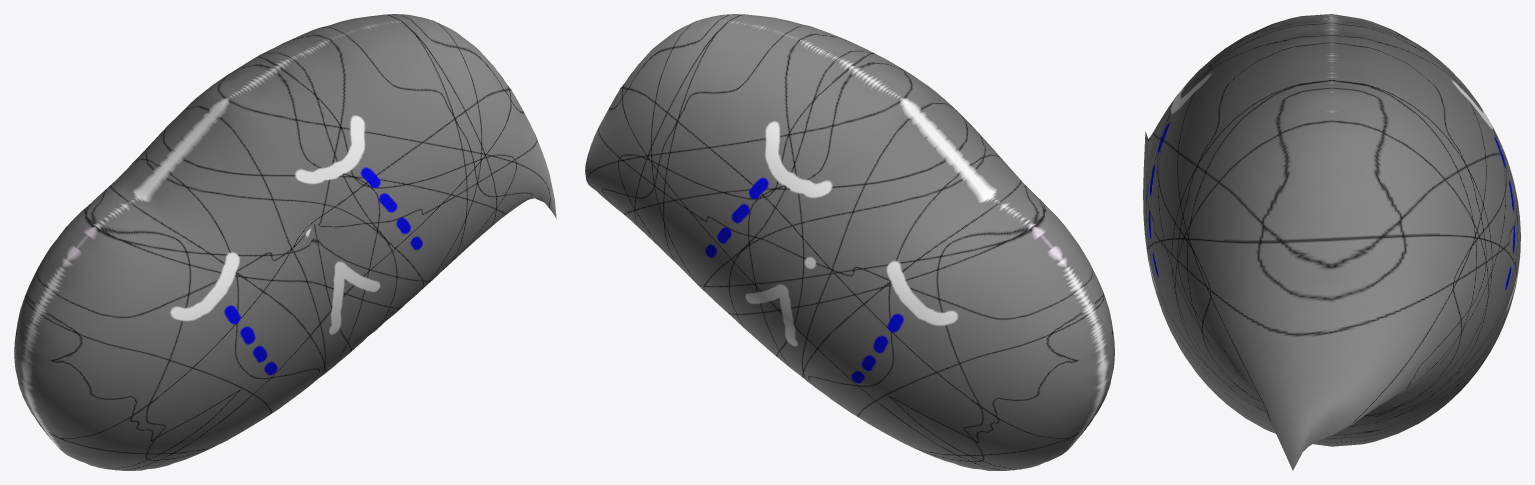
File: asset.glb
3 renders of one model, left to right at view 1: azimuth 30°, elevation 25°; view 2: azimuth 150°, elevation 25°; view 3: azimuth 270°, elevation 25°, orthographic. The views are drawn at different scales.
Size of the model in its own units: 5.95 by 4.17 by 2.8.
Materials: 1 (1 with a texture image).
